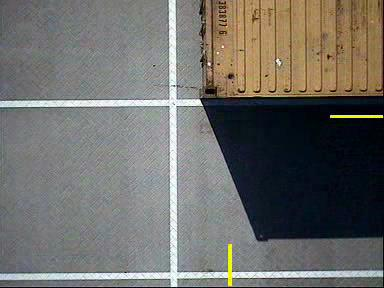groundmarker_2: (85, 54, 163, 101)
